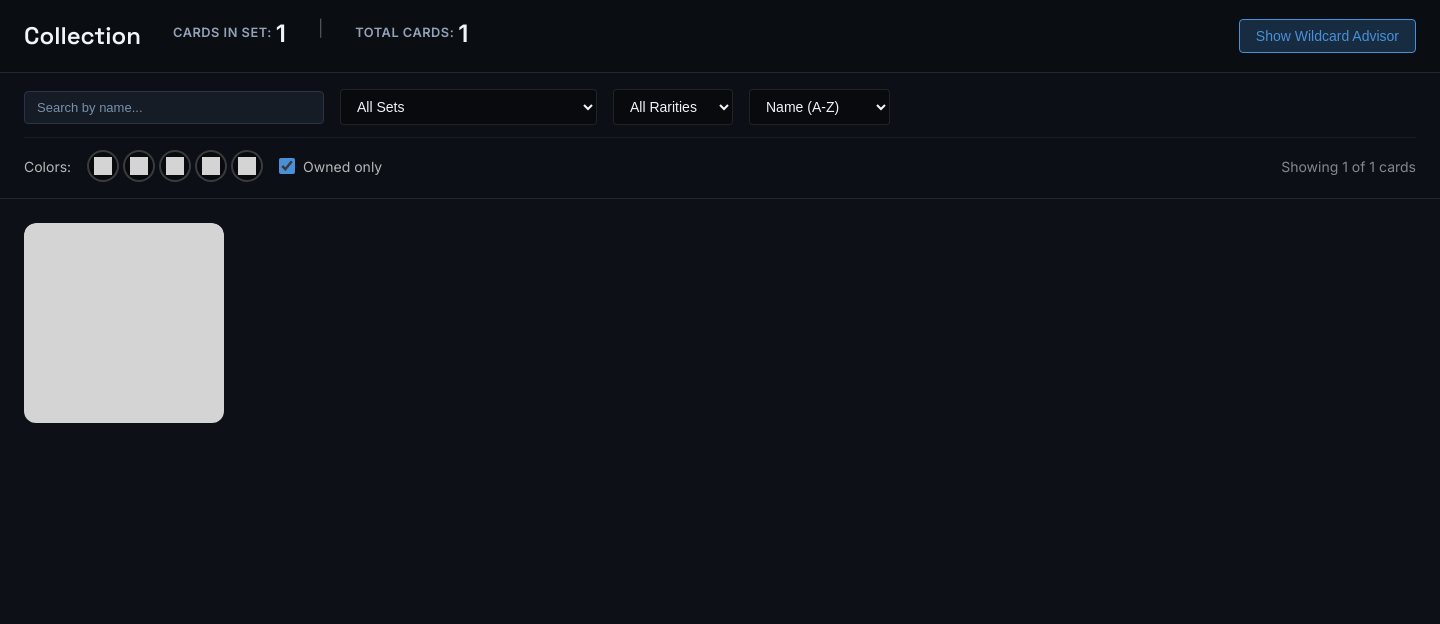
Test: Collection › Set Completion Panel › should display Set Completion panel content when button is clicked (#756)
Expected: the heading "Collection" is shown, x1=24 y1=18 x2=141 y2=54
Select a set first
Select "Strixhaven Mystical Archive (STA)" in the dropdown with test id "collection-set-filter" at (468, 107), box x1=340 y1=89 x2=597 y2=125
Wait 100 ms
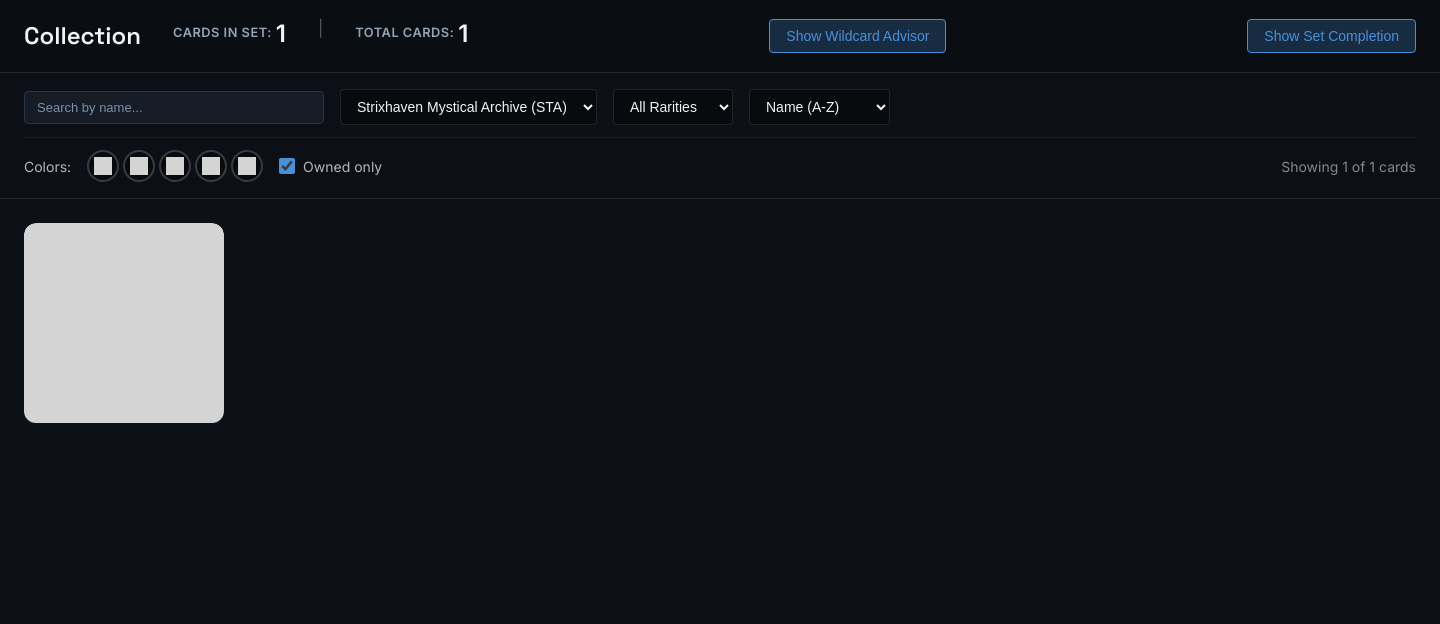
Expected: the button "Show Set Completion" is shown
Click the button "Show Set Completion".
click(1332, 36)  # box x1=1247 y1=19 x2=1416 y2=53
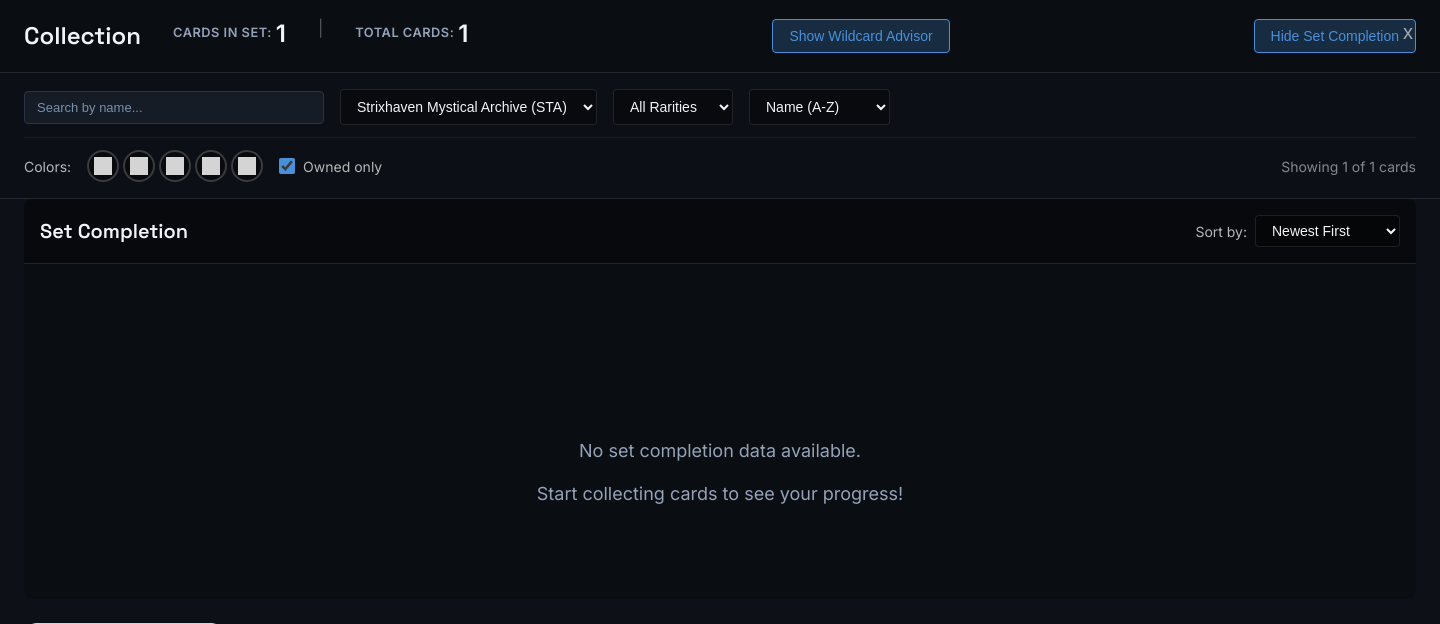
Expected: the heading "Set Completion" is shown, x1=40 y1=216 x2=188 y2=246
